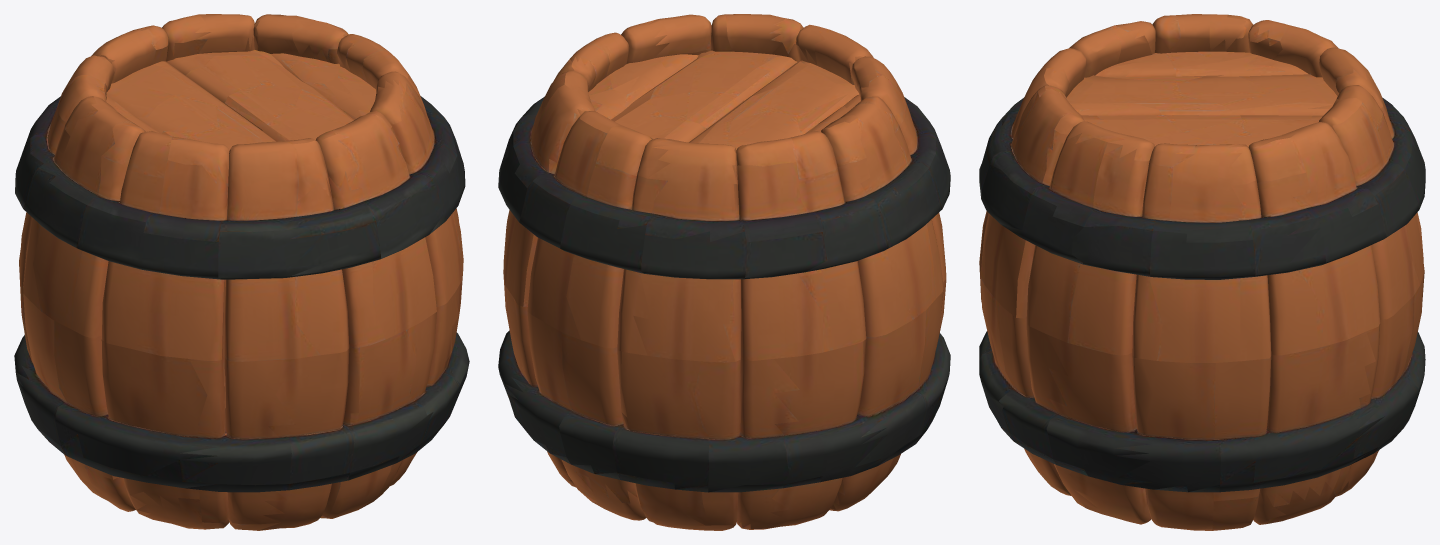
Rendered from la_barril.glb.
The picture shows the model from 3 angles, left to right: view 1: azimuth 30°, elevation 25°; view 2: azimuth 150°, elevation 25°; view 3: azimuth 270°, elevation 25°; orthographic projection.
Bounding box in the file's own units: 1 × 0.9512 × 1.
1 material, 1 textured.
